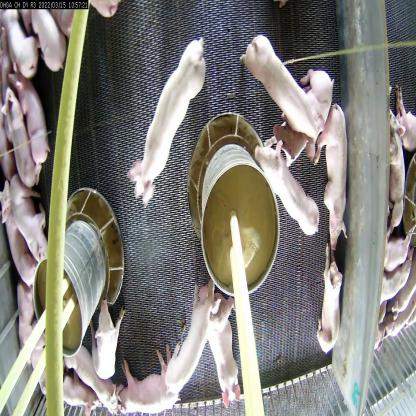Pig: (131, 27, 211, 201), (239, 27, 324, 154), (252, 134, 328, 240), (160, 276, 212, 400), (8, 42, 57, 164), (272, 64, 332, 162), (324, 98, 356, 252), (314, 249, 352, 356), (65, 324, 117, 396), (117, 362, 182, 415), (12, 177, 52, 259), (207, 299, 237, 406), (93, 294, 124, 380), (38, 0, 78, 58), (2, 91, 30, 150), (0, 205, 29, 249)
